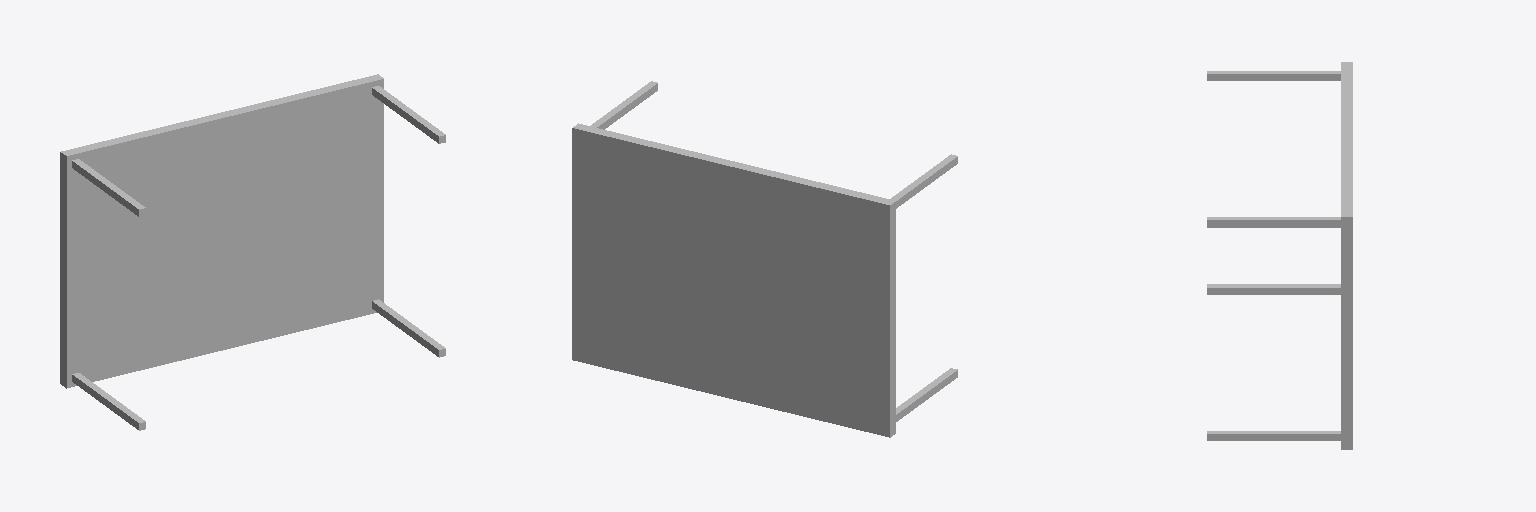
File: random_table36.obj
3 views of the same model, side by side, from view 1: azimuth 30°, elevation 25°; view 2: azimuth 150°, elevation 25°; view 3: azimuth 270°, elevation 25° (orthographic).
Parts seen in each view (by area): view 1: Table_Cube.375, TableLeg0_Cube.376, TableLeg3_Cube.379, TableLeg1_Cube.377, TableLeg2_Cube.378; view 2: Table_Cube.375, TableLeg1_Cube.377, TableLeg3_Cube.379, TableLeg0_Cube.376; view 3: Table_Cube.375, TableLeg0_Cube.376, TableLeg3_Cube.379, TableLeg1_Cube.377, TableLeg2_Cube.378.
Part boxes in pixels (bbox=[...]): Table_Cube.375: bbox=[60, 74, 383, 388]; TableLeg0_Cube.376: bbox=[372, 86, 445, 143]; TableLeg3_Cube.379: bbox=[72, 373, 145, 430]; TableLeg1_Cube.377: bbox=[72, 159, 145, 216]; TableLeg2_Cube.378: bbox=[372, 299, 445, 357]; Table_Cube.375: bbox=[572, 123, 895, 437]; TableLeg1_Cube.377: bbox=[890, 154, 957, 208]; TableLeg3_Cube.379: bbox=[896, 368, 957, 421]; TableLeg0_Cube.376: bbox=[591, 81, 657, 129]; Table_Cube.375: bbox=[1341, 62, 1352, 449]; TableLeg0_Cube.376: bbox=[1207, 217, 1340, 227]; TableLeg3_Cube.379: bbox=[1207, 284, 1340, 294]; TableLeg1_Cube.377: bbox=[1207, 71, 1340, 80]; TableLeg2_Cube.378: bbox=[1207, 431, 1340, 440].
Size of the model in its own units: 11.03 by 7.71 by 4.41.